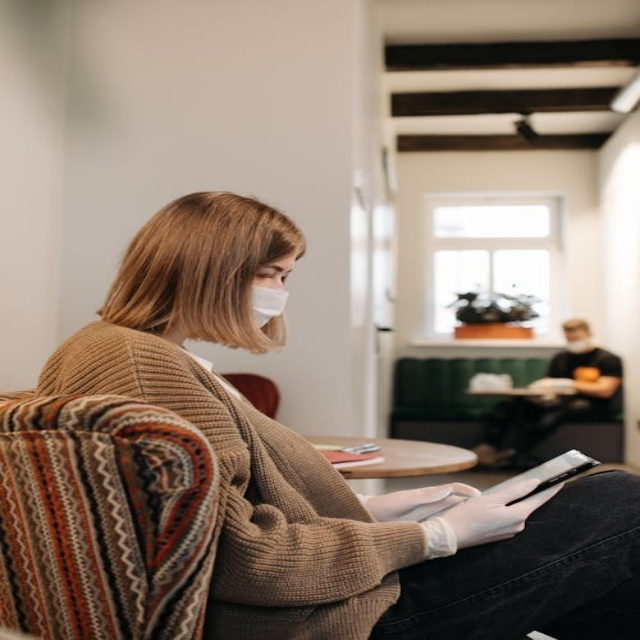Guantes: (428, 476, 572, 562), (359, 483, 482, 524)
Mascara: (248, 283, 291, 329), (565, 338, 593, 352)
Sin_gafas: (255, 260, 297, 279)
